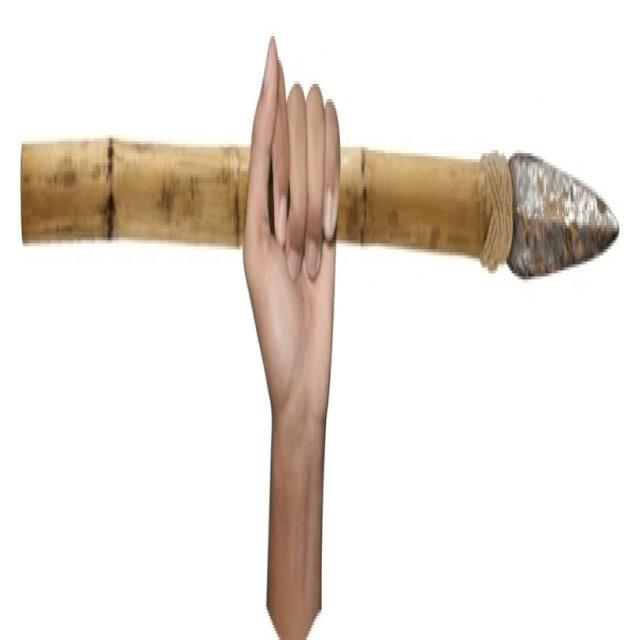spear: (14, 88, 622, 296)
